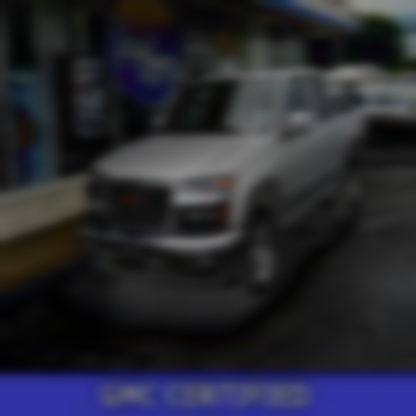Vehicle: (80, 71, 368, 309)
